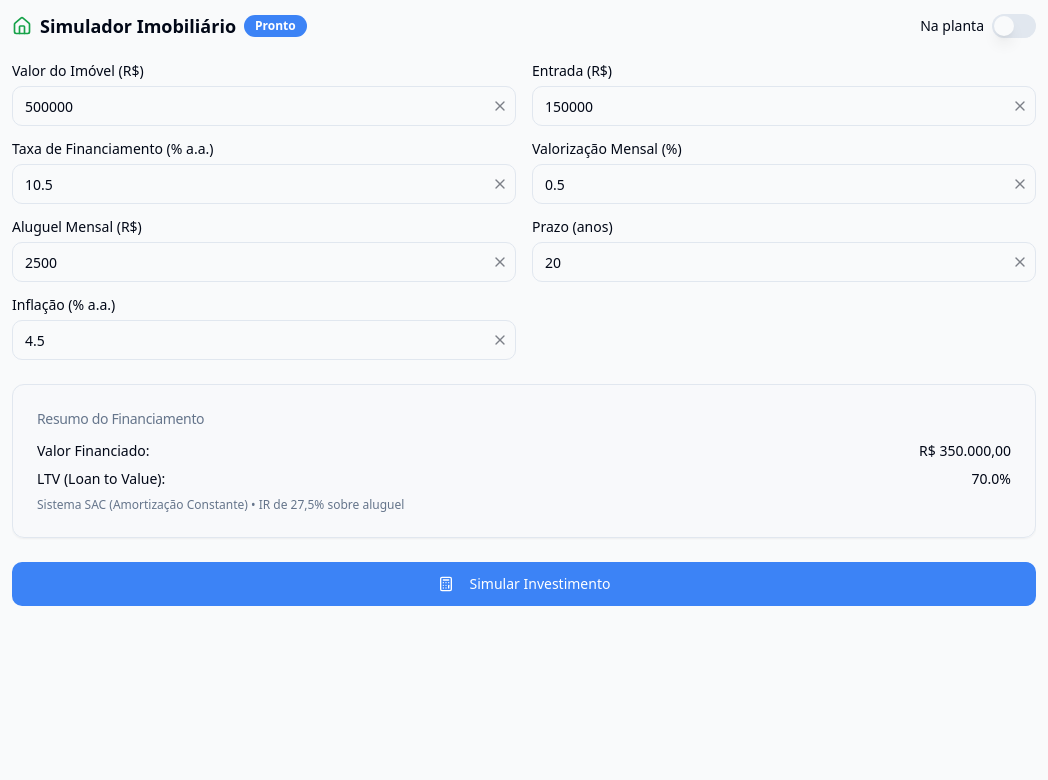
Test case: Button Functionality Tests › RealEstateSimulator Buttons › should handle construction toggle
What coordinates should you click on to do the following:
click the switch
I would click on:
 (1014, 26)
Its box is [992,14,1036,38].
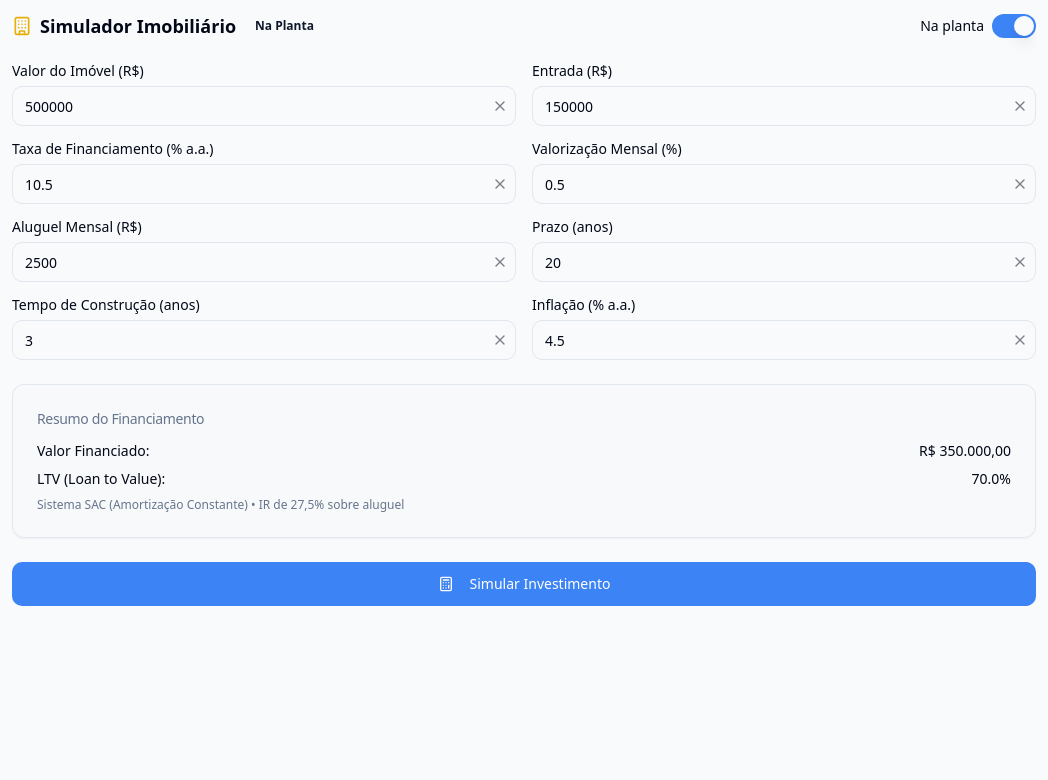
Expected: the text "Na Planta" is shown, [244,15,325,37]
